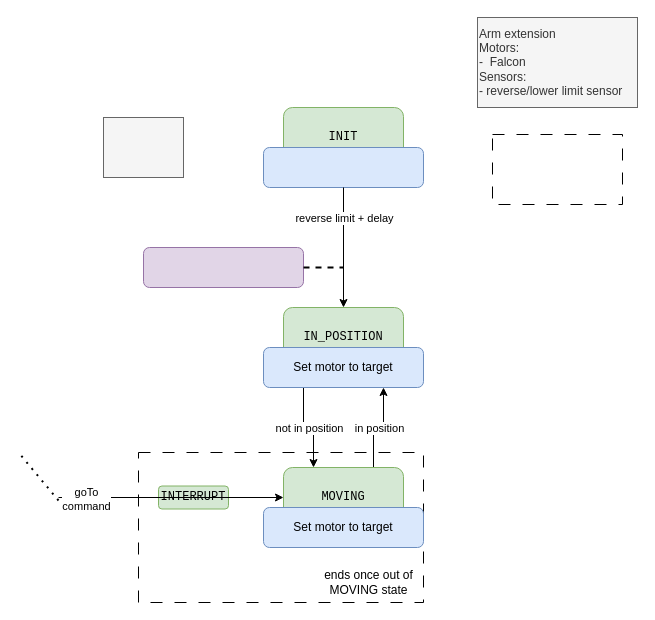
Some shapes in this 655 by 620 pixel diagram are drawn without their labels. The shapes that lost their labels are listed below. From the top down, each one's box as (x1, y1, x2, y2) in pixels, then its label:
(102, 116, 184, 178): Positions: - Home - Trap
(262, 146, 424, 188): Set motor to retract
(492, 134, 622, 204): this is a command when the state leaves this box, the command is done
(142, 246, 304, 288): S et encoder to 0
